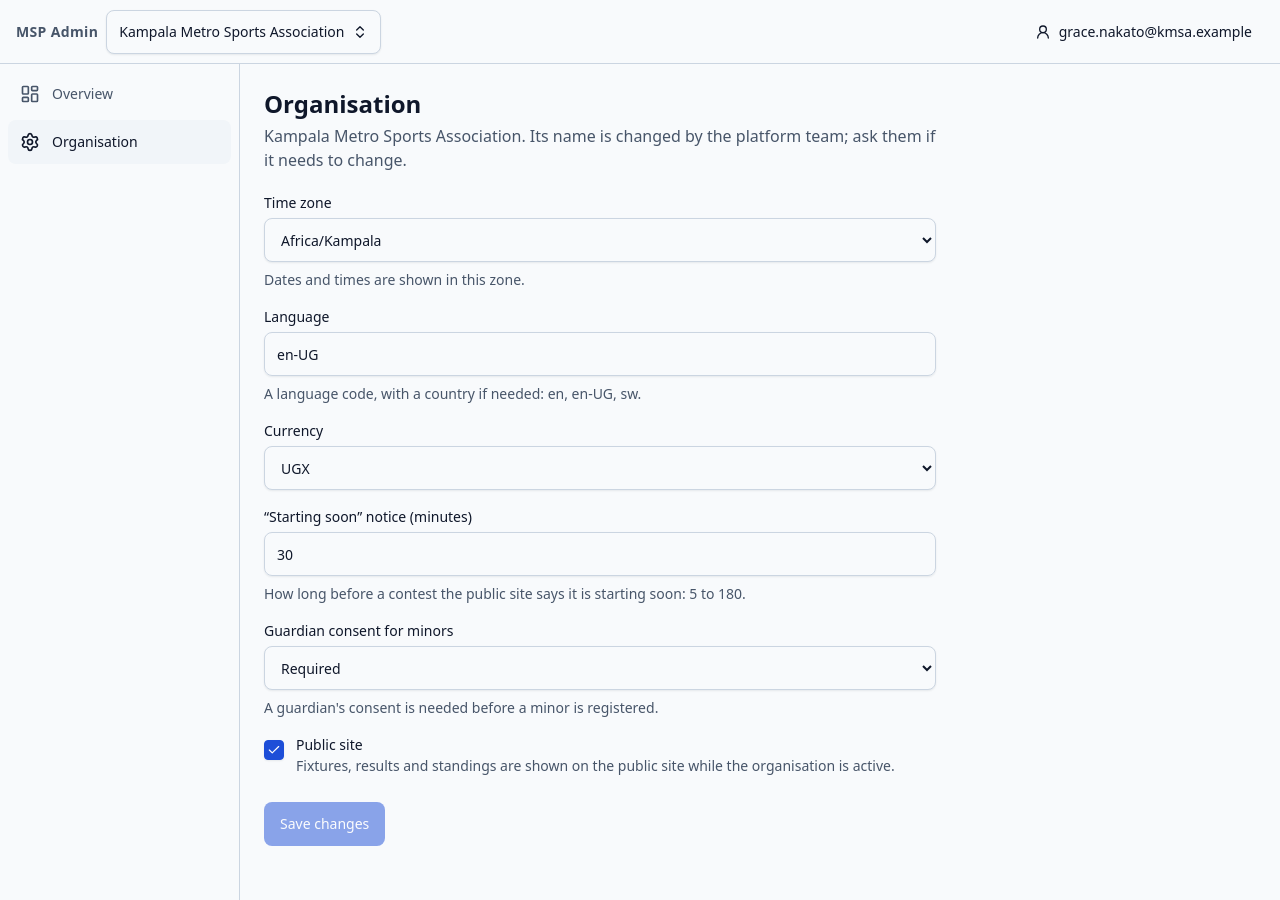
Test: organisation settings › sends only the changed settings, with the version it read as If-Match
Replace the text in the number field labelled "“Starting soon” notice (minutes)" with "45" at [600, 554], box [264,532,936,576]
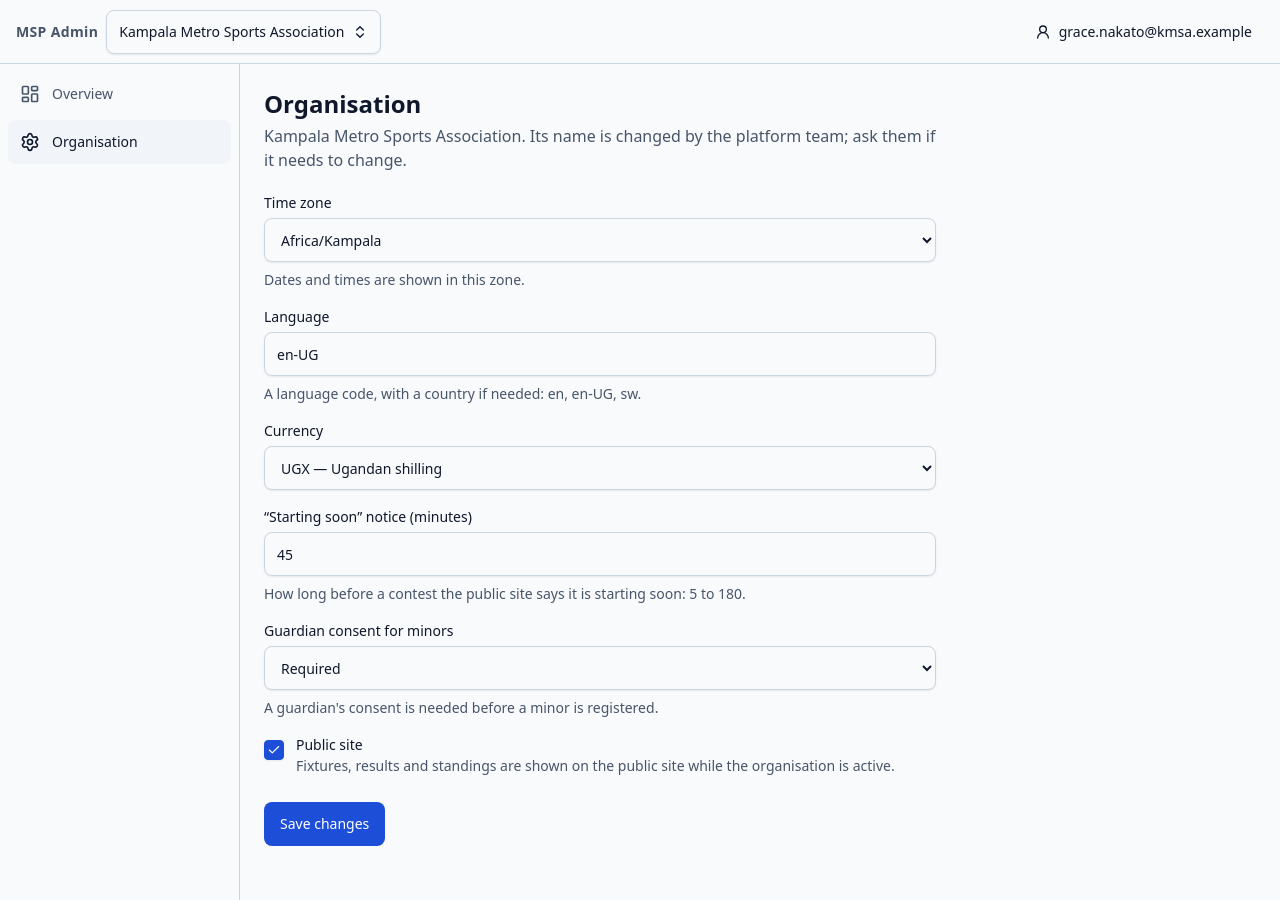
Click the button "Save changes".
click(325, 824)  # box [264,802,385,846]
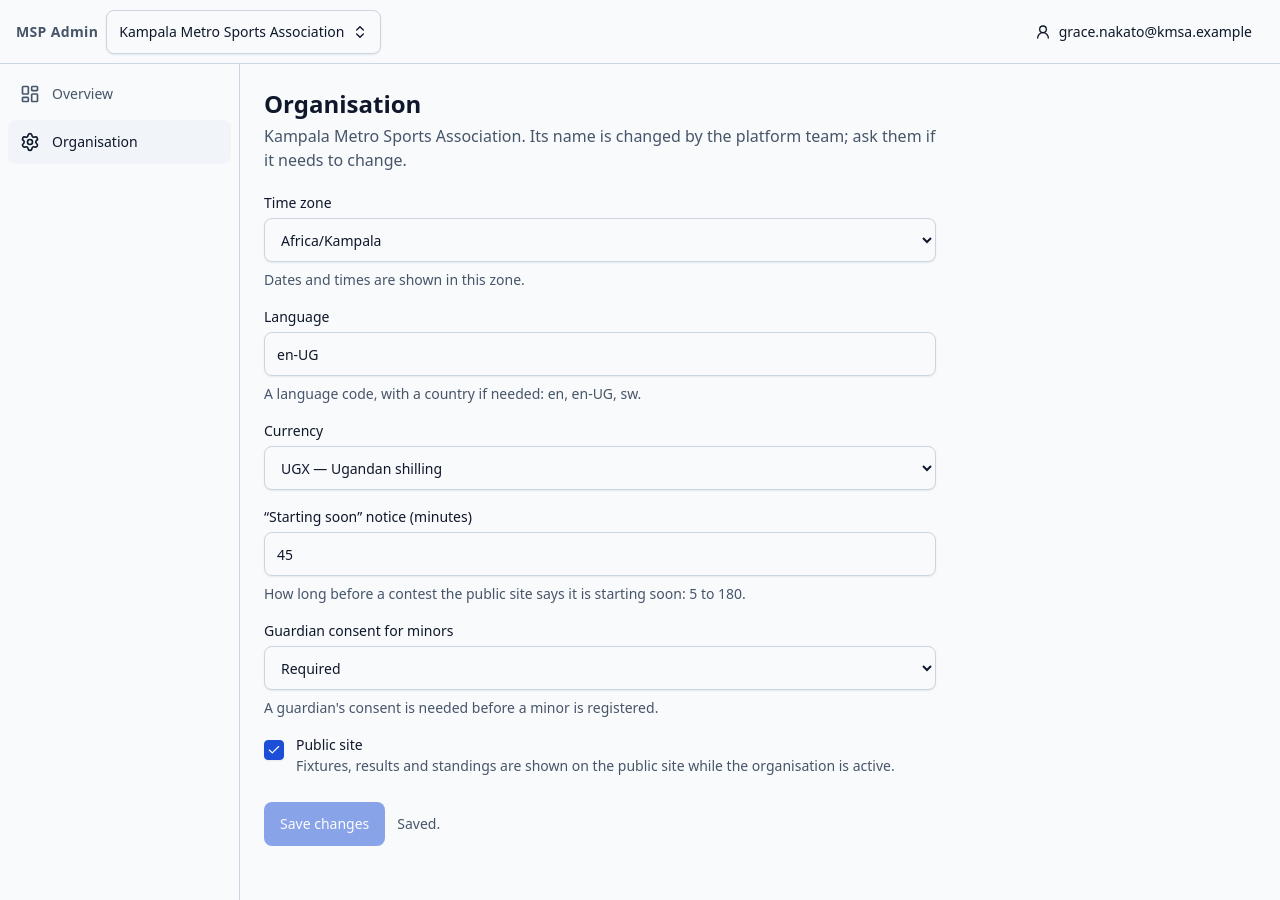
Now the text "Saved." is shown, box [397,814,440,834]
